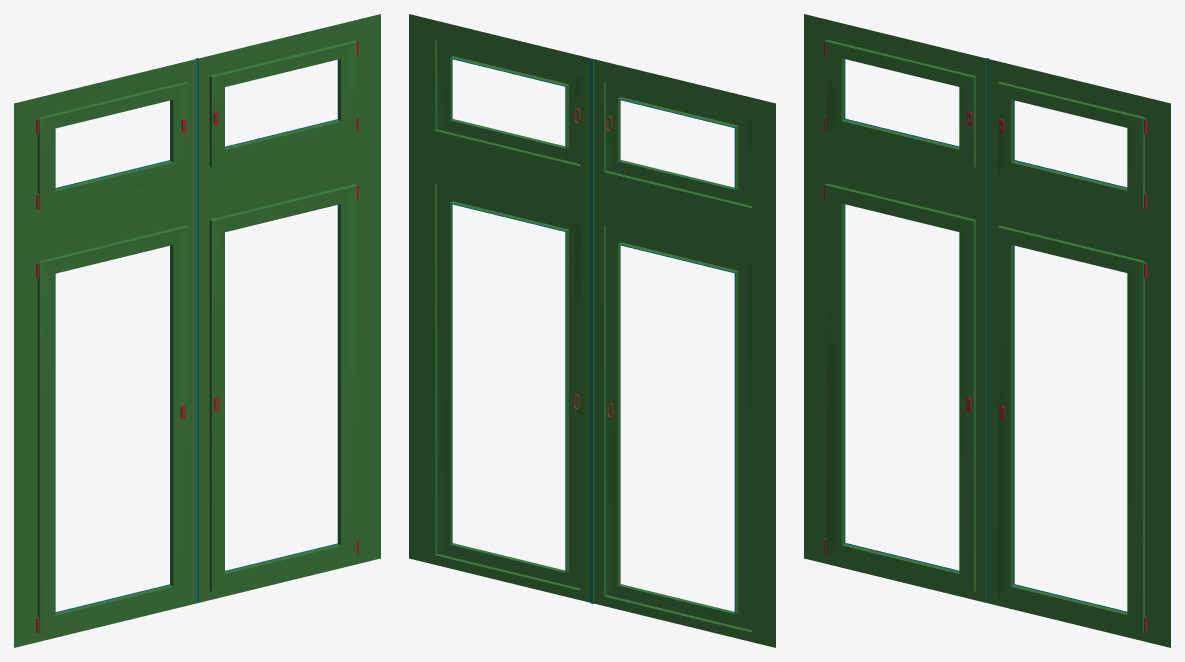
Rendered from SM_Window_02.fbx.
The picture shows the model from 3 angles, left to right: view 1: azimuth 30°, elevation 25°; view 2: azimuth 150°, elevation 25°; view 3: azimuth 330°, elevation 25°; orthographic projection.
Visible parts, largest first — view 1: SM_Window_02; view 2: SM_Window_02; view 3: SM_Window_02.
Boxes of the visible parts, x1,y1,x2,y2 form: SM_Window_02: [14, 14, 380, 647]; SM_Window_02: [409, 14, 775, 647]; SM_Window_02: [804, 14, 1170, 647].
Bounding box in the file's own units: 215 × 304 × 3.85.
